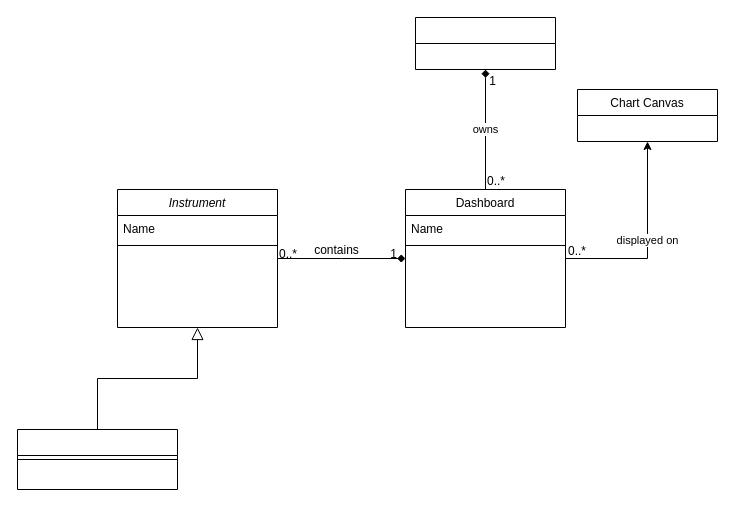
The diagram is 735 pixels wide and 507 high, and some of its shapes have lost their labels. The shapes that lost their labels are listed below. From the top down, each one's centre as x and y in pixels, then its label:
At (x=485, y=43): "DashboardSK".
At (x=97, y=459): "SimpleNumberInstrument".
